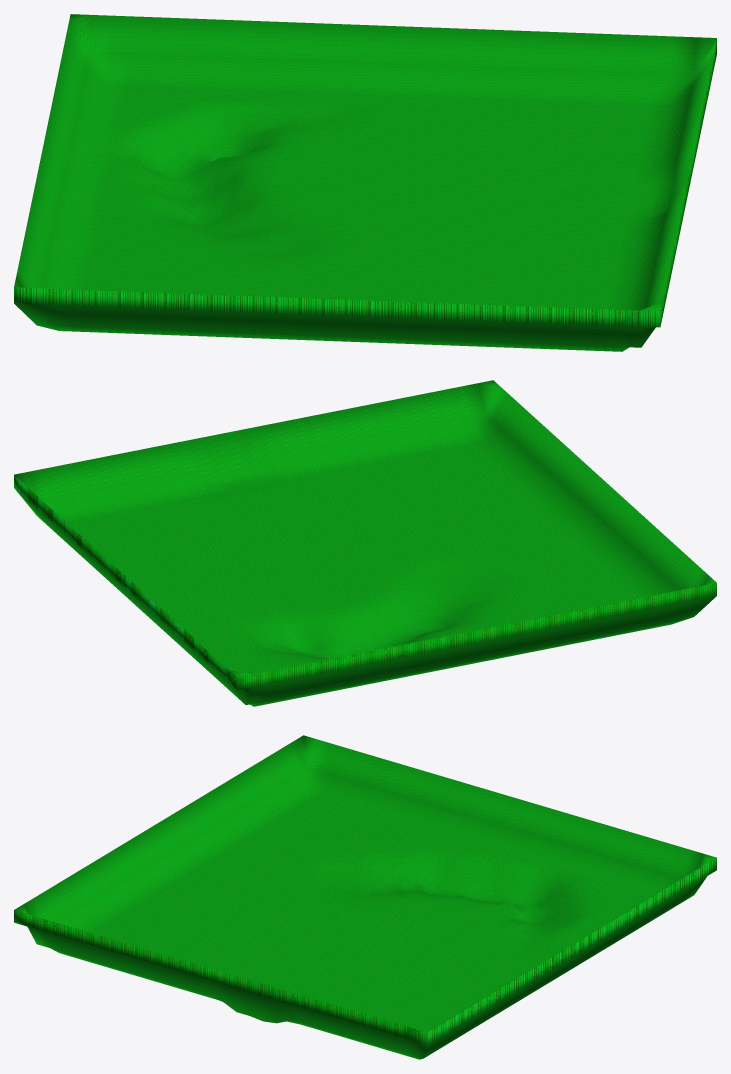
Rendered from yargtrack offroad.glb.
3 renders of one model, top to bottom at view 1: azimuth 30°, elevation 25°; view 2: azimuth 150°, elevation 25°; view 3: azimuth 270°, elevation 25°, orthographic. The views are drawn at different scales.
Visible parts, largest first — view 1: Plane; view 2: Plane; view 3: Plane.
Boxes of the visible parts, box(x1,y1,x2,y2) form: Plane: box(14, 14, 716, 351); Plane: box(14, 380, 716, 706); Plane: box(14, 735, 716, 1059).
Bounding box in the file's own units: 137 × 14.59 × 137.
Materials: 1 (1 with a texture image).
